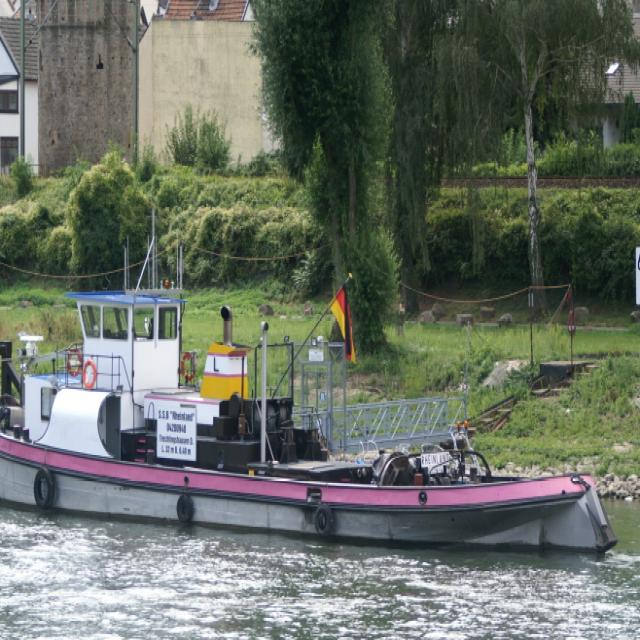tugboat: (1, 277, 624, 572)
